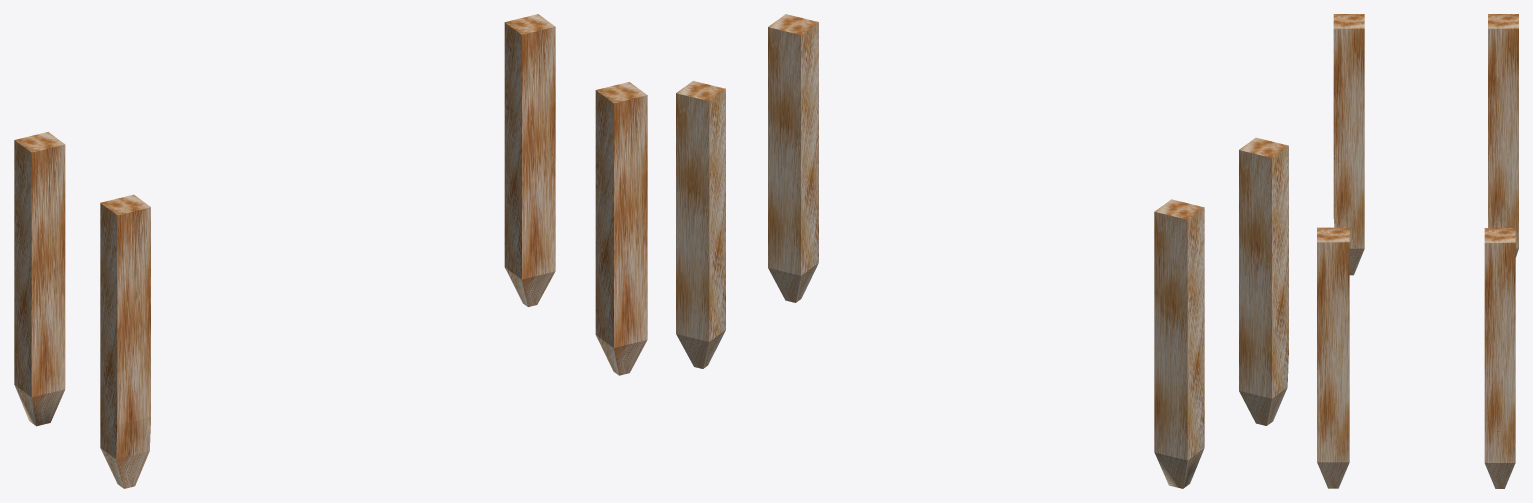
3 renders of one model, left to right at view 1: azimuth 30°, elevation 25°; view 2: azimuth 150°, elevation 25°; view 3: azimuth 270°, elevation 25°, orthographic. The views are drawn at different scales.
Visible parts, largest first — view 1: Cube.001, Cube.004, Cube.002, Cube.003; view 2: Cube.004, Cube.001, Cube.003, Cube.002; view 3: Cube.001, Cube.002, Cube.003, Cube.004.
Boxes of the visible parts, x1,y1,x2,y2 form: Cube.001: (595,82,647,375); Cube.004: (14,132,65,426); Cube.002: (504,14,555,306); Cube.003: (100,194,150,488); Cube.004: (1154,199,1204,488); Cube.001: (768,14,818,302); Cube.003: (1239,137,1288,425); Cube.002: (676,81,725,368); Cube.001: (1317,227,1349,488); Cube.002: (1484,228,1515,488); Cube.003: (1333,14,1364,275); Cube.004: (1488,14,1518,257).
Bounding box in the file's own units: 0.9907 × 0.5073 × 0.3691.
